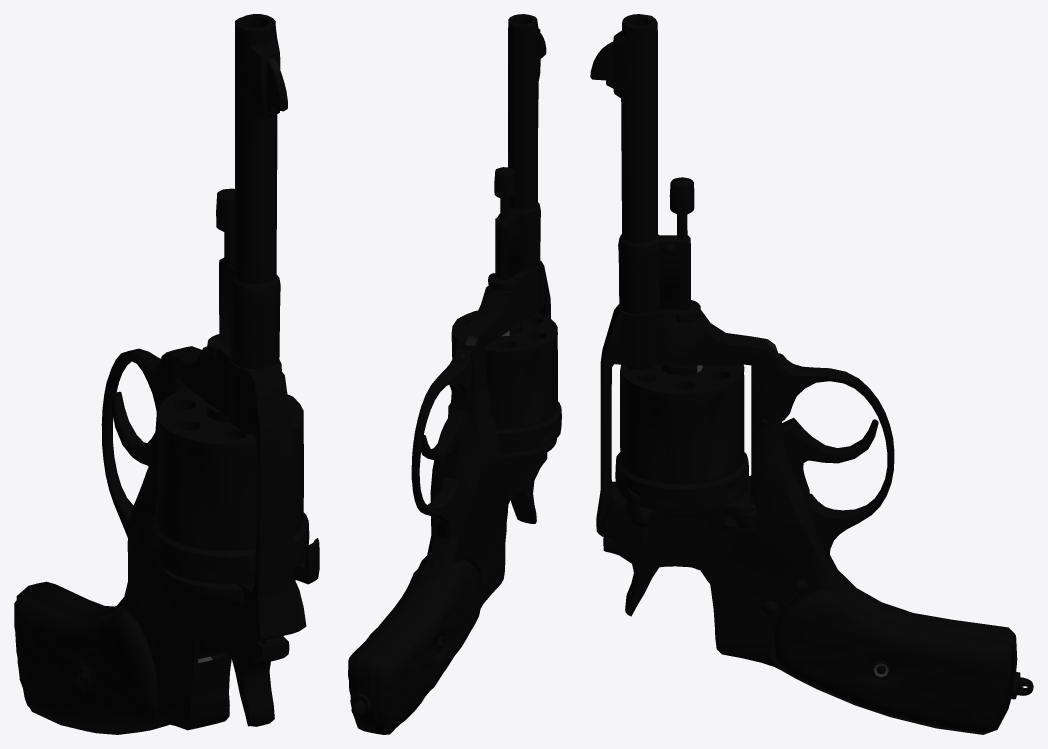
Rendered from NagantM1895.fbx.
3 renders of one model, left to right at view 1: azimuth 30°, elevation 25°; view 2: azimuth 150°, elevation 25°; view 3: azimuth 270°, elevation 25°, orthographic. The views are drawn at different scales.
Visible parts, largest first — view 1: asset_NagantM1895.001; view 2: asset_NagantM1895.001; view 3: asset_NagantM1895.001.
Boxes of the visible parts, x1=… form: asset_NagantM1895.001: x1=14, y1=14, x2=319, y2=734; asset_NagantM1895.001: x1=348, y1=14, x2=561, y2=734; asset_NagantM1895.001: x1=590, y1=14, x2=1033, y2=734.
Bounding box in the file's own units: 0.0228 × 0.132 × 0.0748.
